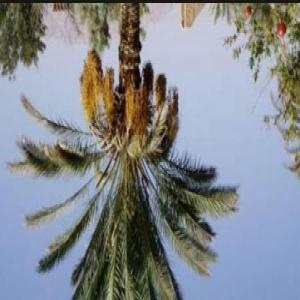palm tree: (6, 2, 239, 298)
